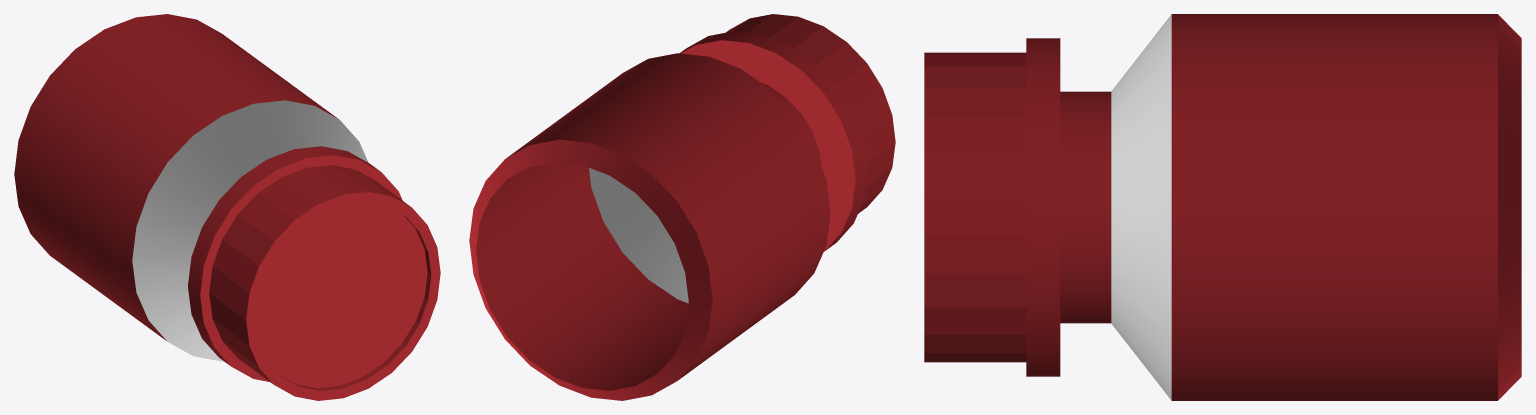
The model's file is model_scale.obj.
3 renders of one model, left to right at view 1: azimuth 30°, elevation 25°; view 2: azimuth 150°, elevation 25°; view 3: azimuth 270°, elevation 25°, orthographic. The views are drawn at different scales.
Visible parts, largest first — view 1: mesh1_mesh1-geometry; view 2: mesh1_mesh1-geometry; view 3: mesh1_mesh1-geometry.
Boxes of the visible parts, bbox=[...] form: mesh1_mesh1-geometry: bbox=[14, 14, 440, 400]; mesh1_mesh1-geometry: bbox=[469, 14, 895, 400]; mesh1_mesh1-geometry: bbox=[924, 14, 1521, 400].
Size of the model in its own units: 0.0845 by 0.0845 by 0.1299.
